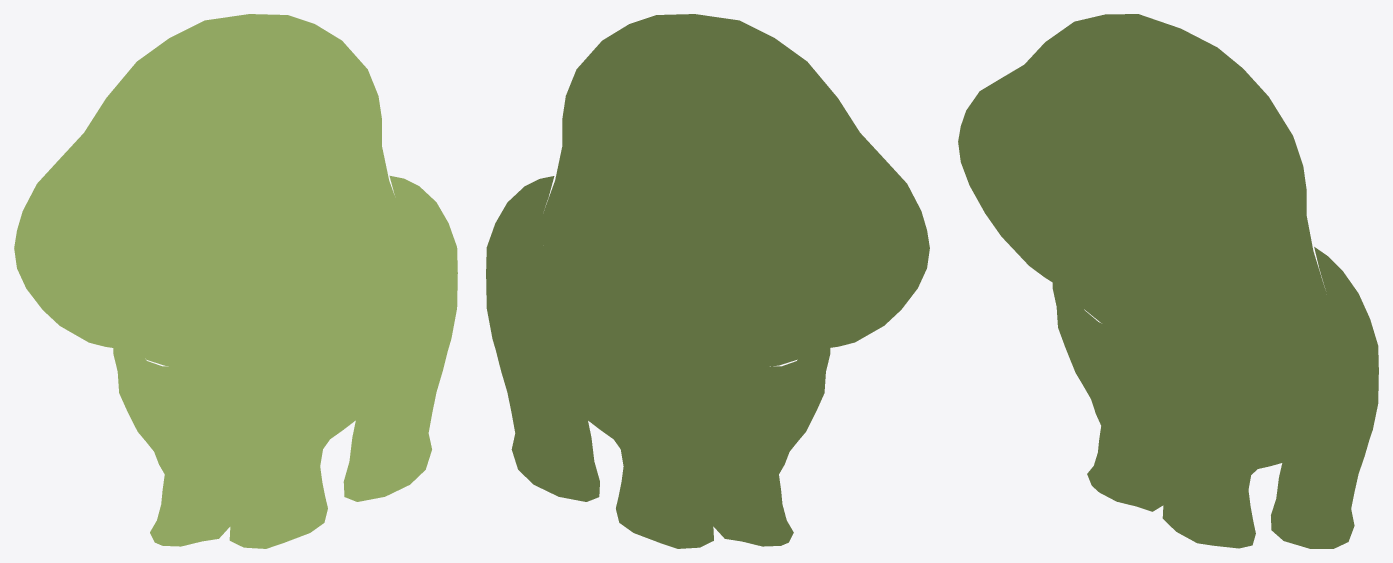
Rendered from PlaneRino.fbx.
3 renders of one model, left to right at view 1: azimuth 30°, elevation 25°; view 2: azimuth 150°, elevation 25°; view 3: azimuth 330°, elevation 25°, orthographic. The views are drawn at different scales.
Parts seen in each view (by area): view 1: PlaneRino1, PlaneRino2; view 2: PlaneRino1, PlaneRino2; view 3: PlaneRino1, PlaneRino2.
Boxes of the visible parts, x1,y1,x2,y2 form: PlaneRino1: (14,14,406,368); PlaneRino2: (113,175,457,548); PlaneRino1: (541,14,929,366); PlaneRino2: (486,176,830,548); PlaneRino1: (958,14,1329,366); PlaneRino2: (1052,247,1378,548).
Size of the model in its own units: 0.5499 by 0.6436 by 0.000514.
